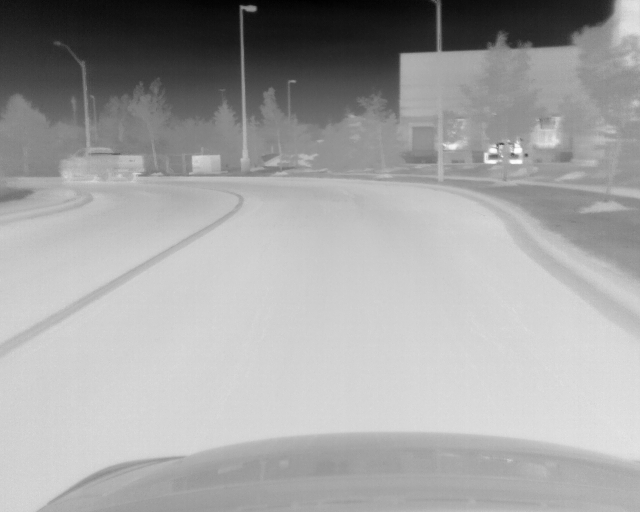car: (57, 146, 145, 184)
